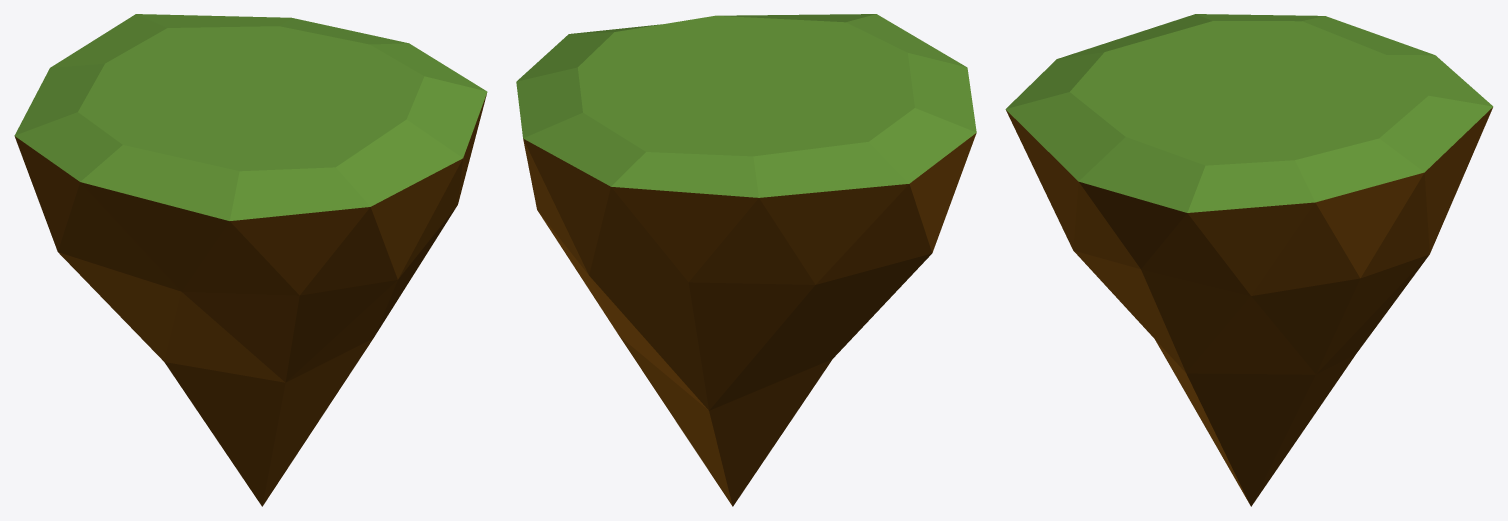
Rendered from Terra fluttuante.fbx.
3 views of the same model, side by side, from view 1: azimuth 30°, elevation 25°; view 2: azimuth 150°, elevation 25°; view 3: azimuth 270°, elevation 25° (orthographic). The views are drawn at different scales.
Parts seen in each view (by area): view 1: Icosphere; view 2: Icosphere; view 3: Icosphere.
Part boxes in pixels (bbox=[...]): Icosphere: bbox=[14, 14, 487, 506]; Icosphere: bbox=[516, 14, 976, 506]; Icosphere: bbox=[1005, 14, 1493, 506].
Bounding box in the file's own units: 219 × 215 × 232.
